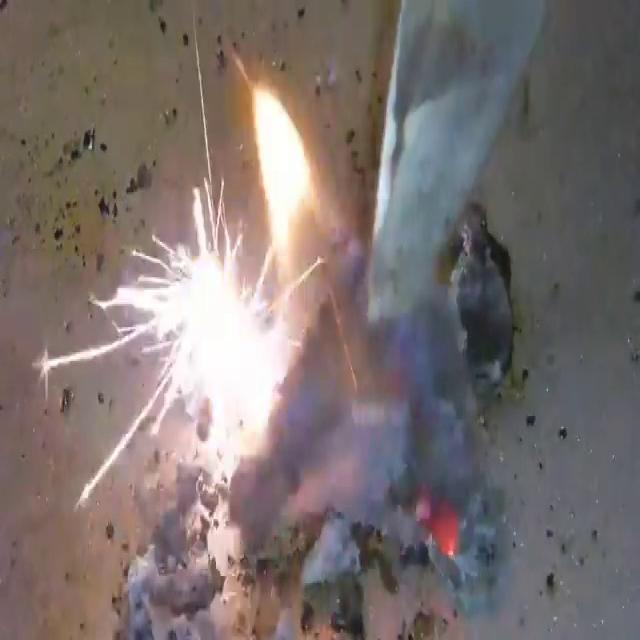Fire: (23, 6, 546, 636)
